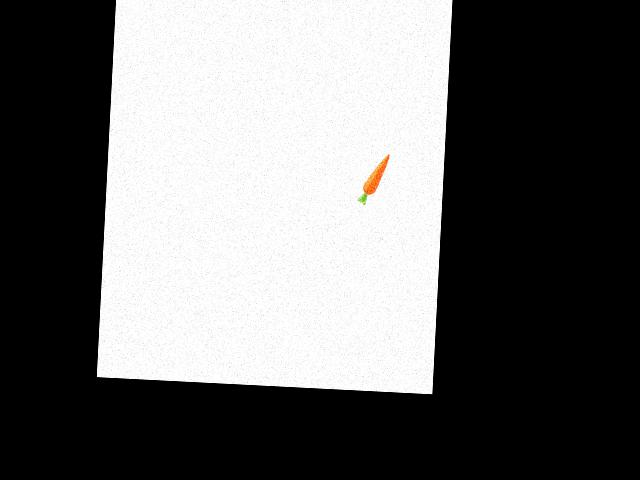carrot: (362, 151, 392, 201)
